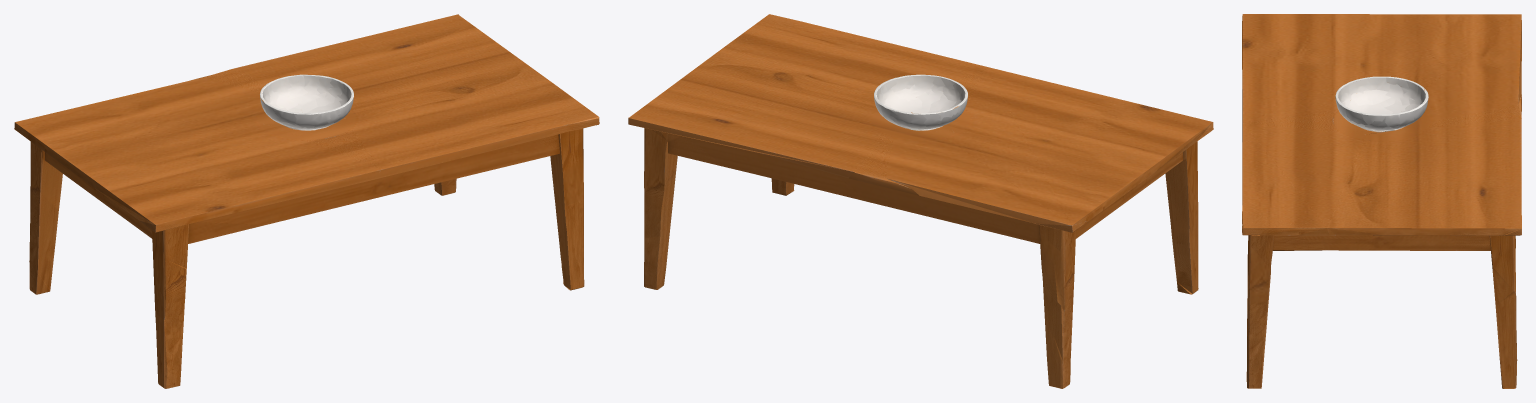
Rendered from Kitchen_table_and_bowl.glb.
3 renders of one model, left to right at view 1: azimuth 30°, elevation 25°; view 2: azimuth 150°, elevation 25°; view 3: azimuth 270°, elevation 25°, orthographic.
Bounding box in the file's own units: 1.9 × 0.7954 × 1.05.
Materials: 1 (1 with a texture image).
